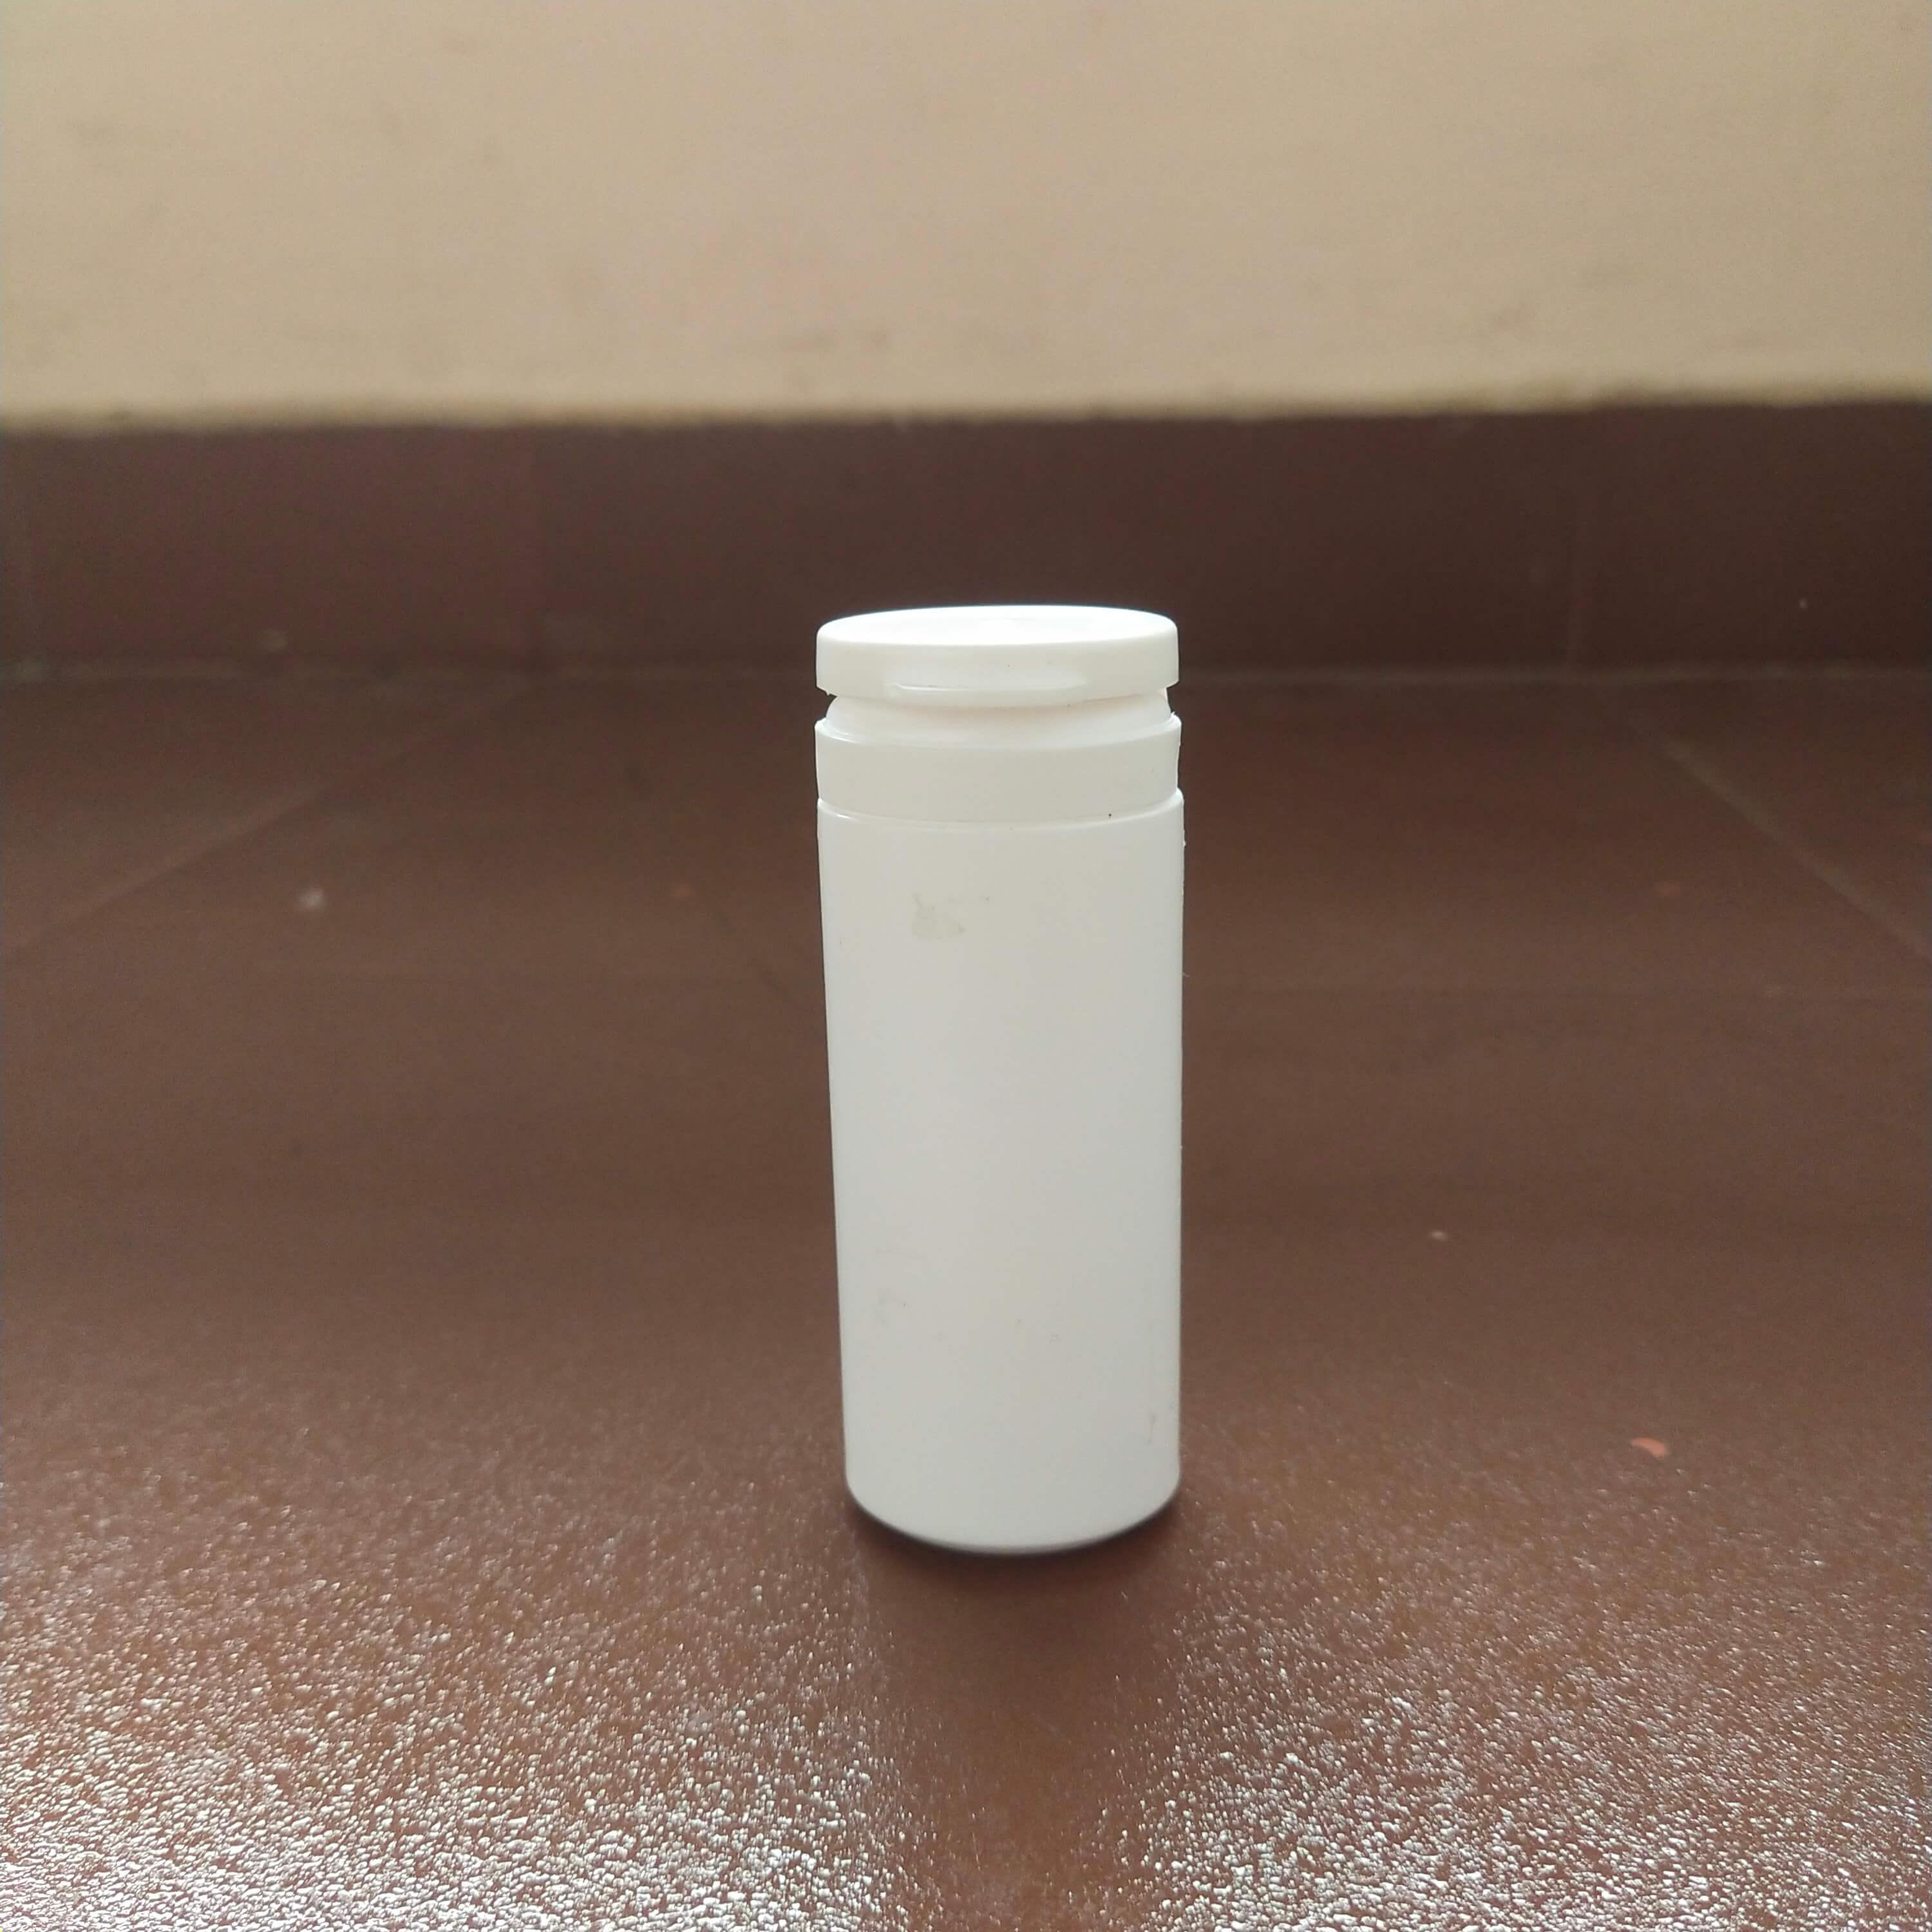plastic box: (784, 557, 1261, 1587)
